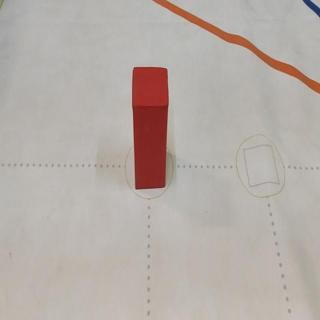redbox: (131, 65, 169, 190)
